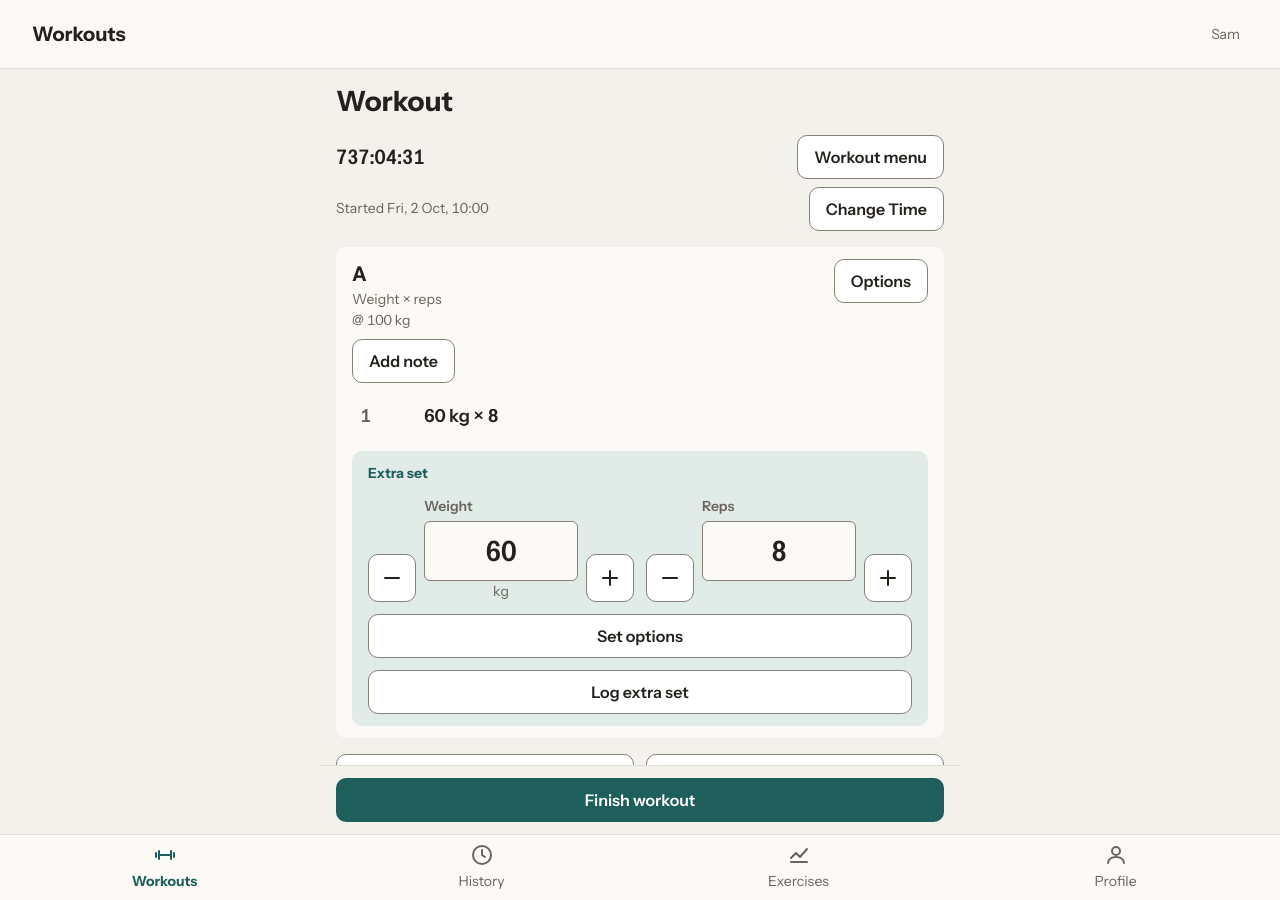
Test: 17.1 AC28 — Finish keeps every rule › opens today's Finish dialog
The image size is (1280, 900).
Check: the heading "Workout" is shown, box top-left (336, 84), bottom-right (453, 118)
Click the button "Finish workout": (640, 800) top-left (336, 778), bottom-right (944, 822)
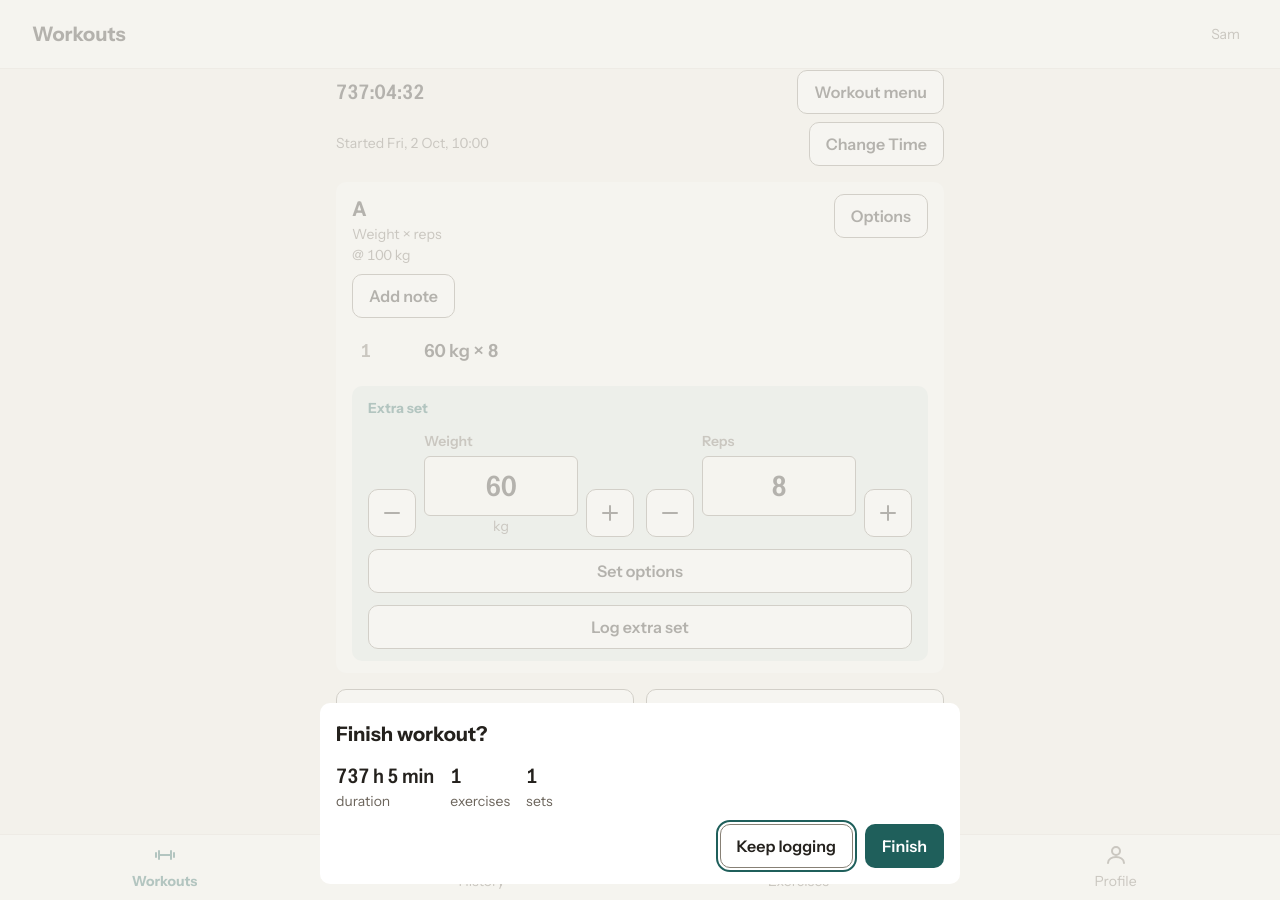
Check: the dialog "Finish workout?" is shown, box top-left (320, 703), bottom-right (960, 884)
